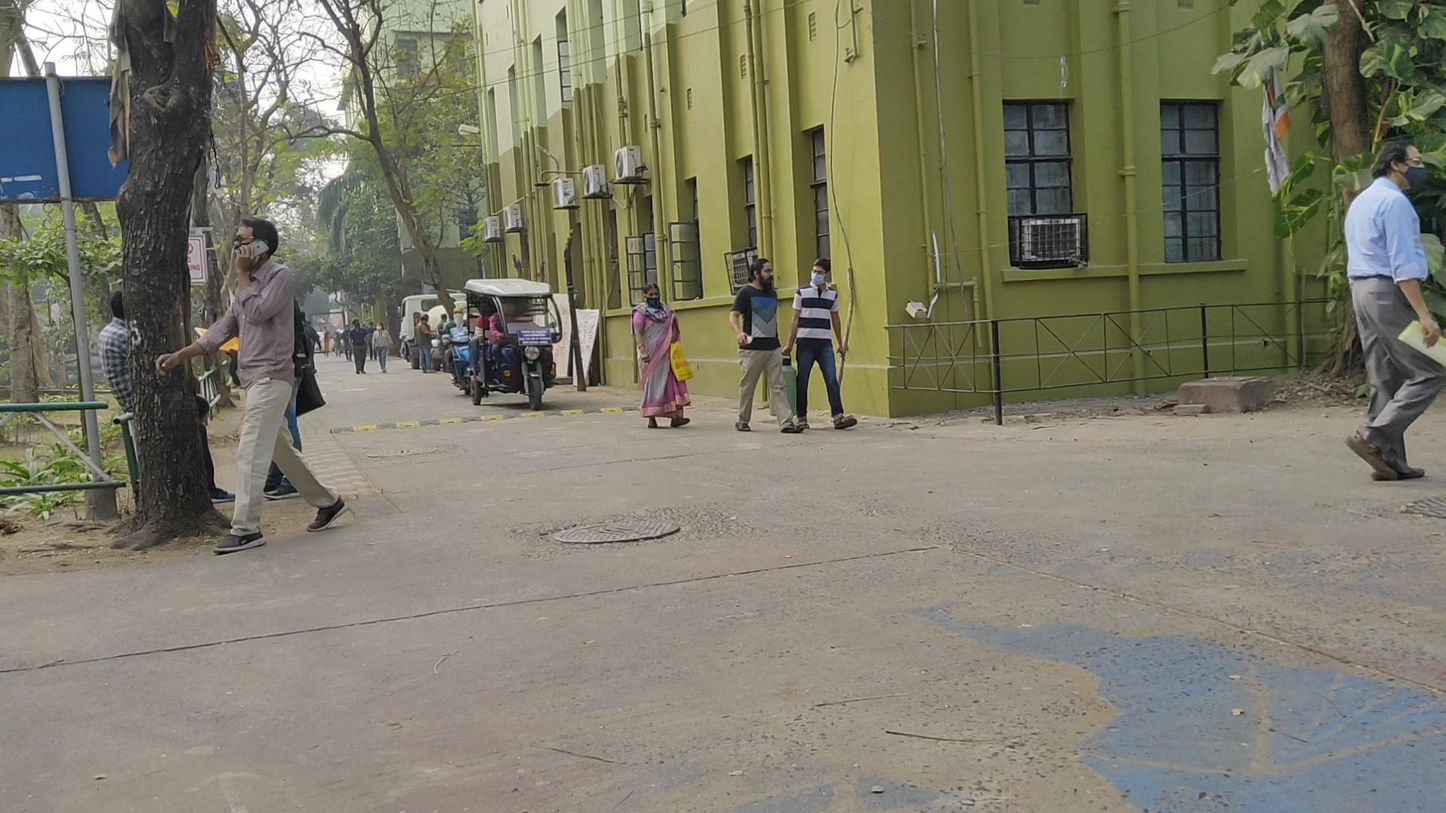Auto: (461, 276, 562, 410)
bike: (437, 305, 471, 396)
